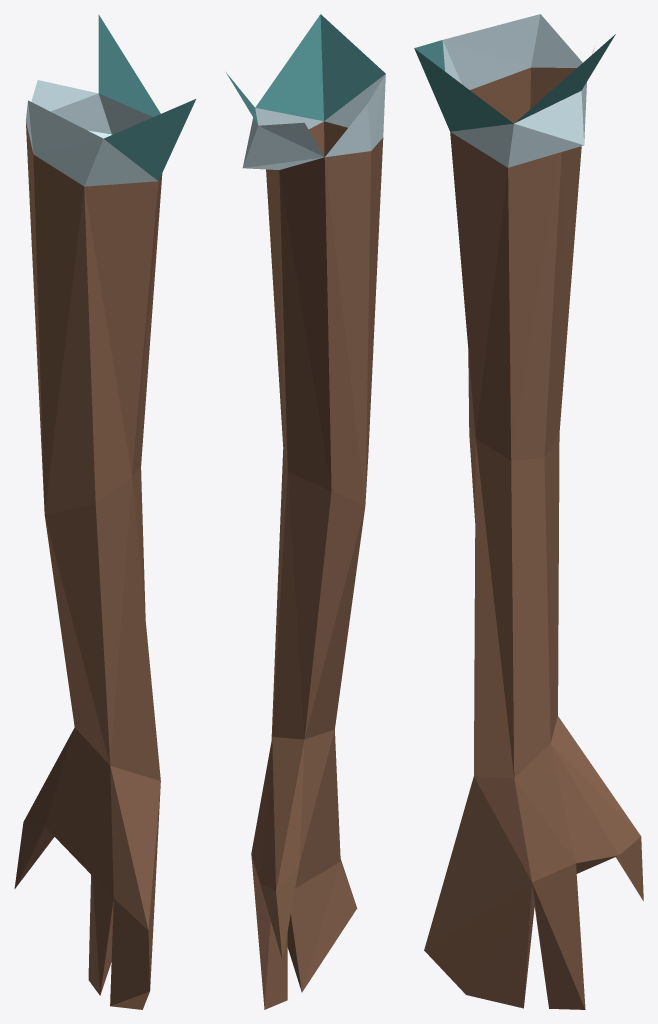
File: ArmR.obj
3 renders of one model, left to right at view 1: azimuth 30°, elevation 25°; view 2: azimuth 150°, elevation 25°; view 3: azimuth 270°, elevation 25°, orthographic. The views are drawn at different scales.
Size of the model in its own units: 0.1198 by 0.8661 by 0.1817.
1 material, 1 textured.
